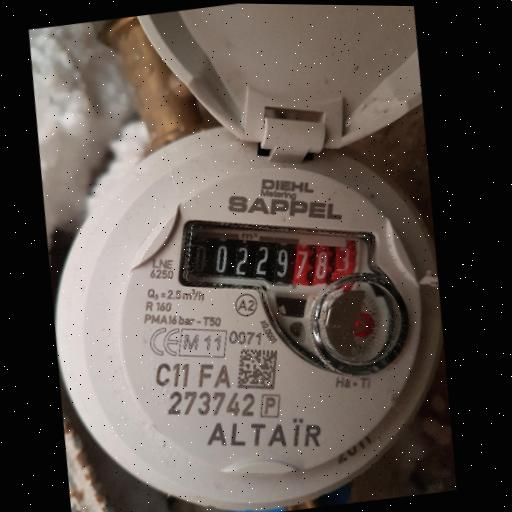0: (206, 235, 239, 280), (187, 233, 217, 278)
2: (248, 238, 280, 284), (227, 237, 259, 281)
3: (327, 242, 363, 287)
7: (286, 240, 319, 288)
8: (306, 243, 338, 289)
9: (266, 239, 300, 287)
border_water_meter_number: (172, 198, 389, 319)
